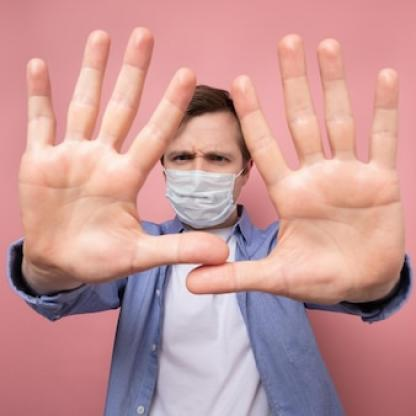stop: (185, 36, 409, 300), (20, 23, 229, 280)
